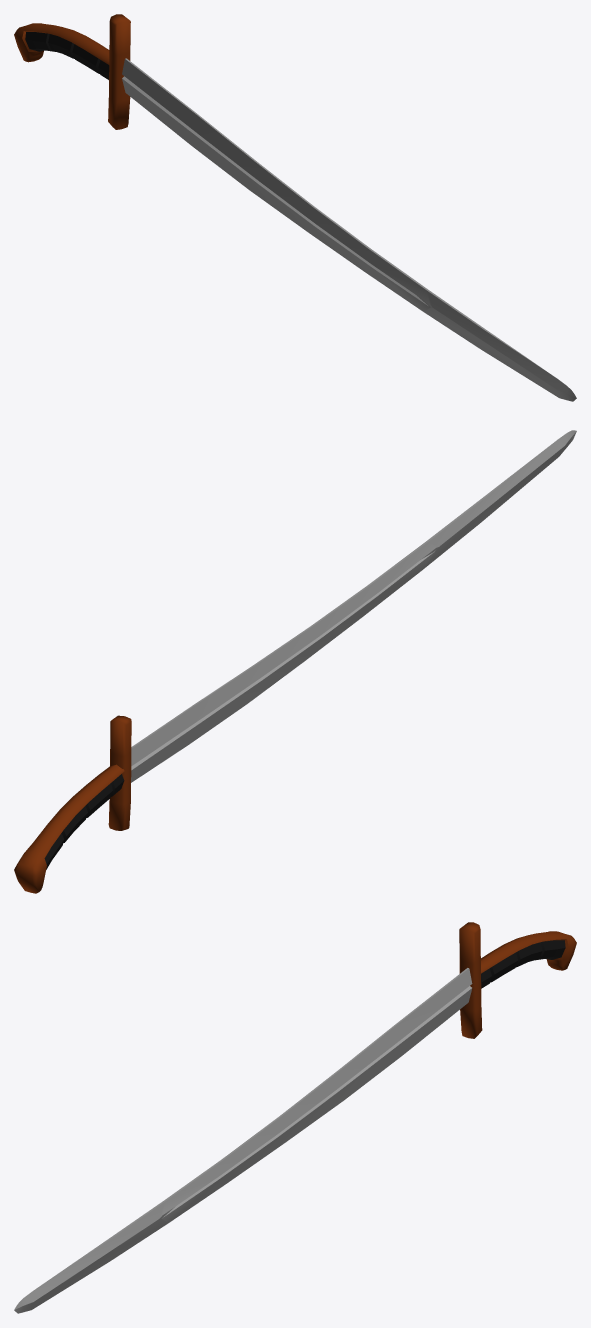
File: Mesh_Sabre_Simple.FBX
3 renders of one model, top to bottom at view 1: azimuth 30°, elevation 25°; view 2: azimuth 150°, elevation 25°; view 3: azimuth 330°, elevation 25°, orthographic.
Parts seen in each view (by area): view 1: Sabre_Simple; view 2: Sabre_Simple; view 3: Sabre_Simple.
Boxes of the visible parts, left/top/right/bottom form: Sabre_Simple: left=14, top=14, right=576, bottom=401; Sabre_Simple: left=14, top=430, right=576, bottom=893; Sabre_Simple: left=14, top=922, right=576, bottom=1313.
Bounding box in the file's own units: 0.6611 × 2.85 × 25.65.
